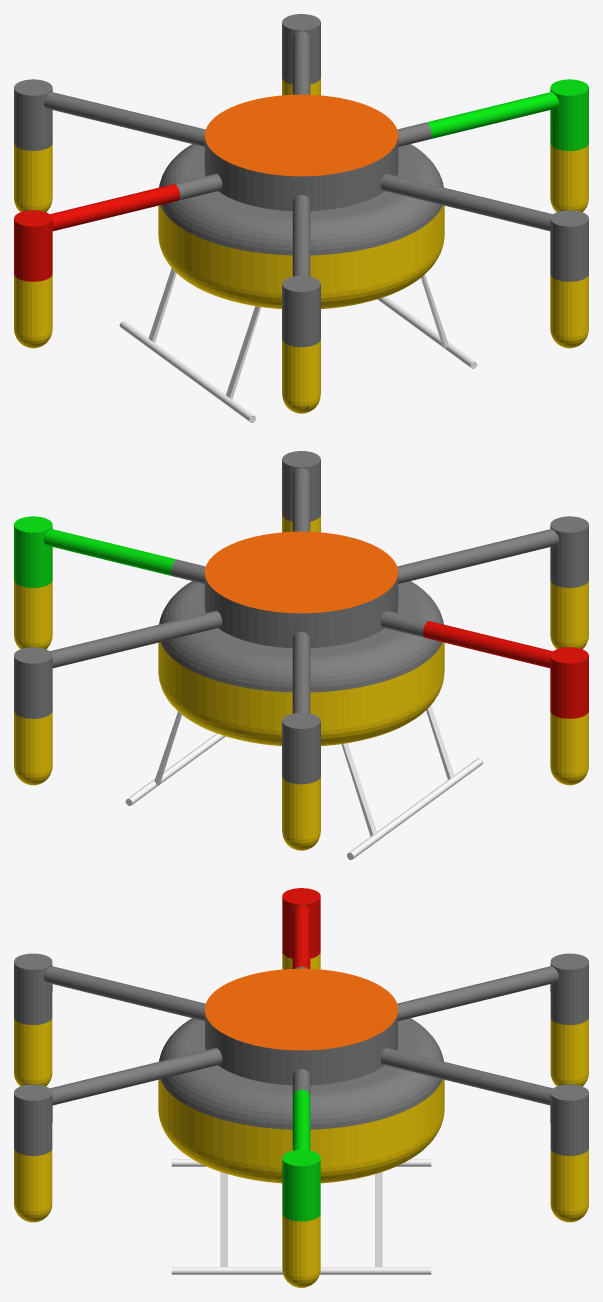
The model's file is PLACE_sim_mockup.dae.
3 renders of one model, top to bottom at view 1: azimuth 30°, elevation 25°; view 2: azimuth 150°, elevation 25°; view 3: azimuth 270°, elevation 25°, orthographic.
Visible parts, largest first — view 1: PLACE_sim_mockup; view 2: PLACE_sim_mockup; view 3: PLACE_sim_mockup.
Boxes of the visible parts, box(x1,y1,x2,y2) form: PLACE_sim_mockup: box(14, 14, 588, 422); PLACE_sim_mockup: box(14, 451, 588, 859); PLACE_sim_mockup: box(14, 888, 588, 1287).
Bounding box in the file's own units: 1.7 × 1.48 × 0.605.
